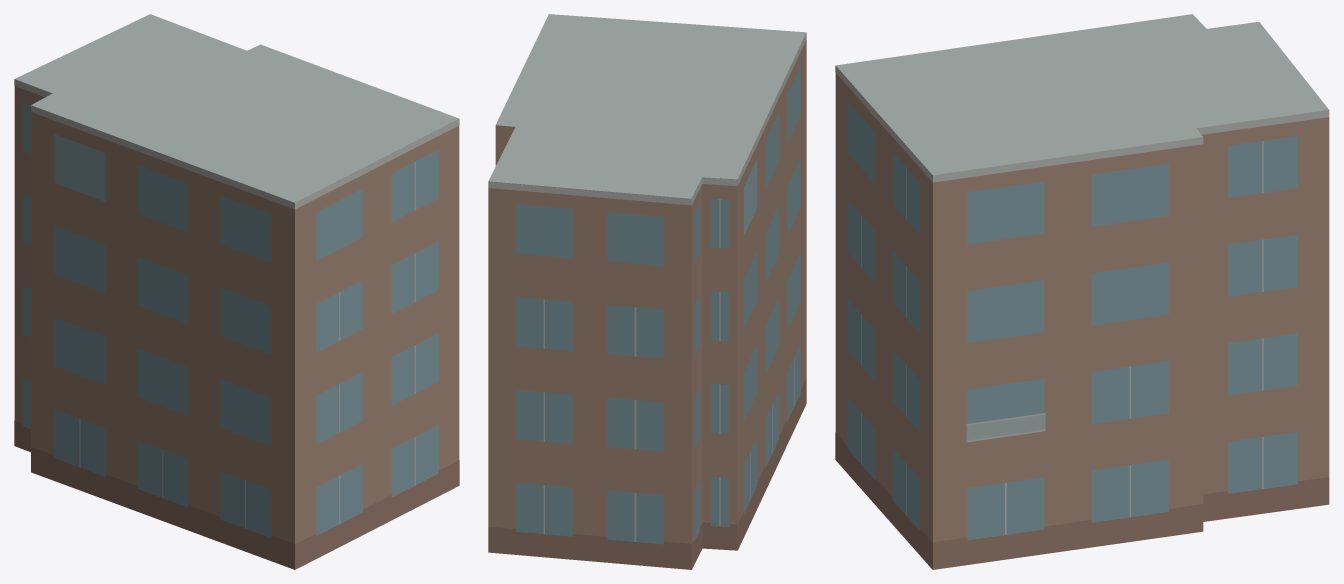
The model's file is survey-upis-32867718.glb.
3 renders of one model, left to right at view 1: azimuth 30°, elevation 25°; view 2: azimuth 150°, elevation 25°; view 3: azimuth 270°, elevation 25°, orthographic. The views are drawn at different scales.
Parts seen in each view (by area): view 1: survey-upis-32867718.tmp; view 2: survey-upis-32867718.tmp; view 3: survey-upis-32867718.tmp.
Part boxes in pixels (box(x1,y1,x2,y2)): survey-upis-32867718.tmp: box(14, 14, 459, 569); survey-upis-32867718.tmp: box(488, 14, 806, 569); survey-upis-32867718.tmp: box(835, 14, 1329, 569).
Bounding box in the file's own units: 11.85 × 13.5 × 15.33.
